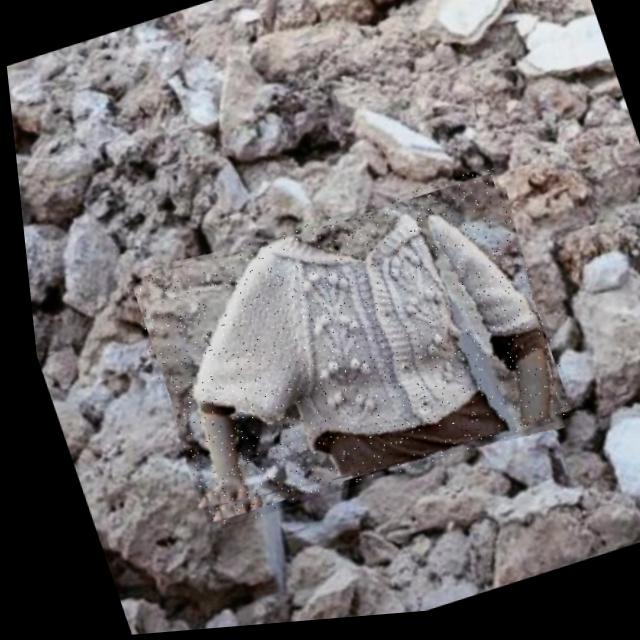Person in Rubble: (112, 169, 575, 538)
